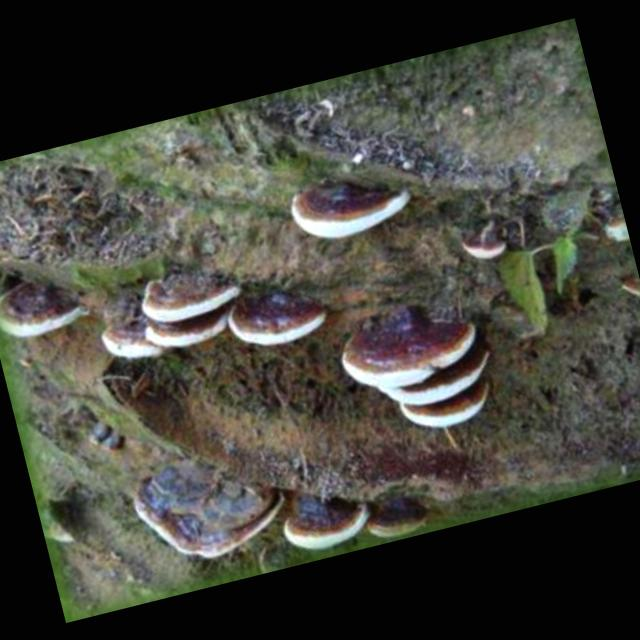ganoderma: (125, 434, 298, 577), (333, 287, 488, 397), (282, 166, 410, 255), (372, 345, 502, 418), (223, 280, 330, 360), (136, 257, 247, 333), (276, 487, 379, 560), (1, 268, 91, 347), (397, 380, 499, 439), (143, 305, 242, 360), (99, 312, 169, 375), (359, 489, 435, 546), (459, 221, 512, 267)
